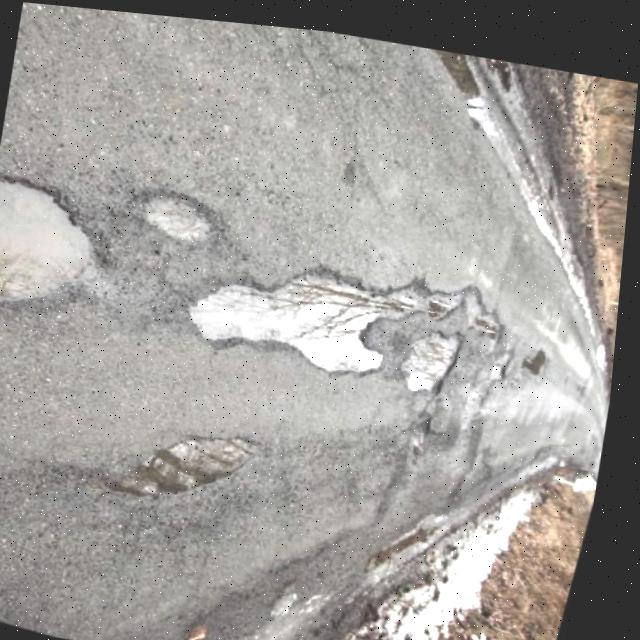Pothole: (183, 251, 398, 373), (105, 398, 288, 526), (0, 170, 128, 334), (407, 264, 524, 334), (124, 180, 242, 242), (402, 322, 480, 388), (389, 398, 466, 458), (519, 332, 564, 370)
